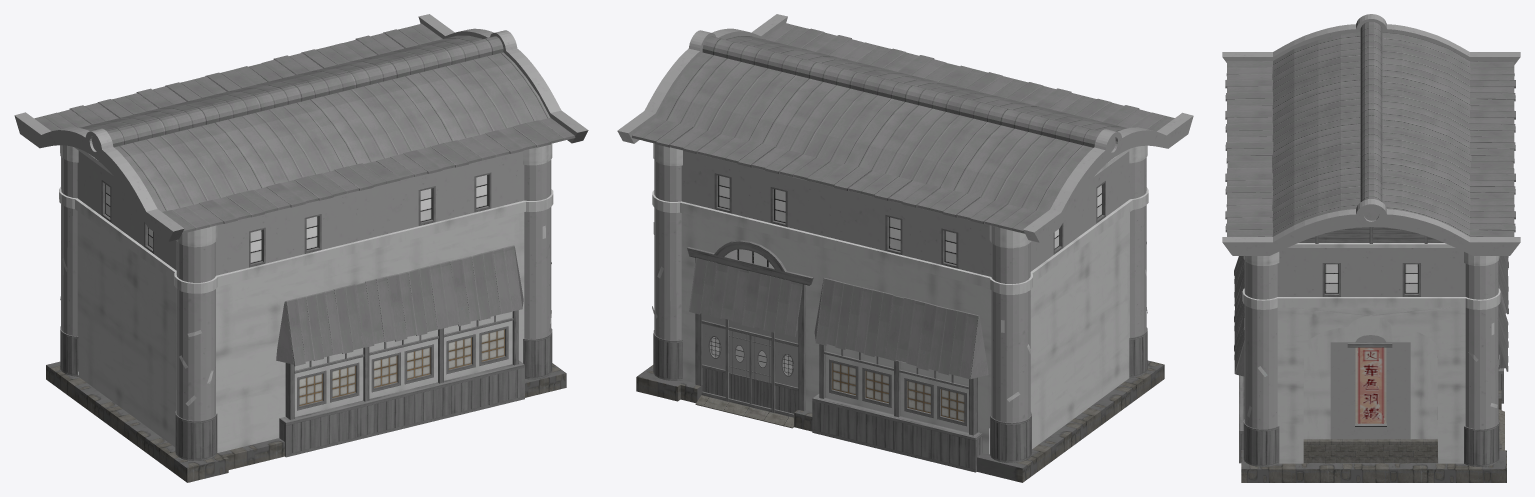
Rendered from SM_ENV_KNVLLG_AreaB_Building_C.mo.fbx.
3 views of the same model, side by side, from view 1: azimuth 30°, elevation 25°; view 2: azimuth 150°, elevation 25°; view 3: azimuth 270°, elevation 25° (orthographic). The views are drawn at different scales.
Parts seen in each view (by area): view 1: SM_ENV_KNVLLG_AreaB_Building_C.mo; view 2: SM_ENV_KNVLLG_AreaB_Building_C.mo; view 3: SM_ENV_KNVLLG_AreaB_Building_C.mo.
Boxes of the visible parts, bbox=[...] form: SM_ENV_KNVLLG_AreaB_Building_C.mo: bbox=[14, 14, 588, 482]; SM_ENV_KNVLLG_AreaB_Building_C.mo: bbox=[617, 14, 1193, 482]; SM_ENV_KNVLLG_AreaB_Building_C.mo: bbox=[1222, 14, 1520, 482].
Bounding box in the file's own units: 17.41 × 12.14 × 11.54.
